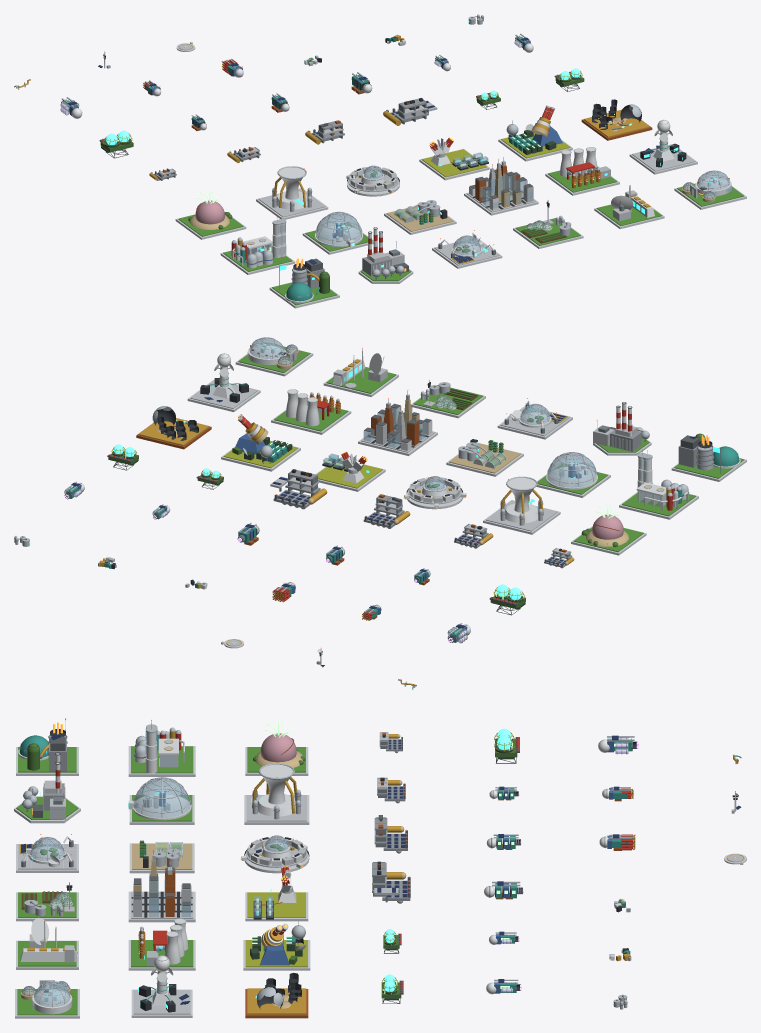
File: building_constructor.glb
3 views of the same model, one above another, from view 1: azimuth 30°, elevation 25°; view 2: azimuth 150°, elevation 25°; view 3: azimuth 270°, elevation 25° (orthographic). The views are drawn at different scales.
Visible parts, largest first — view 1: 009_core_METROPLEX, 006_core_MEGAFACTORY, 000_core_COLONY_BASE, 010_core_POWER_PLANT, 013_core_TERRAFORMING, 016_core_SURFACE_MEGA_SHIELD, 007_core_HABITAT, 001_core_FACTORY, 017_core_ALIEN_RUINS, 015_core_SURFACE_SHIELD, 005_core_RESEARCH_CAMPUS, 012_core_ECO_BOOSTER (+9 smaller); view 2: 009_core_METROPLEX, 006_core_MEGAFACTORY, 013_core_TERRAFORMING, 000_core_COLONY_BASE, 010_core_POWER_PLANT, 016_core_SURFACE_MEGA_SHIELD, 007_core_HABITAT, 012_core_ECO_BOOSTER, 001_core_FACTORY, 004_core_LABORATORY, 011_core_SKY_NET, 005_core_RESEARCH_CAMPUS (+10 smaller); view 3: 013_core_TERRAFORMING, 009_core_METROPLEX, 006_core_MEGAFACTORY, 007_core_HABITAT, 016_core_SURFACE_MEGA_SHIELD, 010_core_POWER_PLANT, 000_core_COLONY_BASE, 011_core_SKY_NET, 004_core_LABORATORY, 017_core_ALIEN_RUINS, 005_core_RESEARCH_CAMPUS, 015_core_SURFACE_SHIELD (+14 smaller).
Boxes of the visible parts, x1,y1,x2,y2 form: 009_core_METROPLEX: (464, 157, 538, 215); 006_core_MEGAFACTORY: (220, 215, 295, 274); 000_core_COLONY_BASE: (269, 258, 339, 308); 010_core_POWER_PLANT: (545, 147, 619, 195); 013_core_TERRAFORMING: (256, 166, 328, 219); 016_core_SURFACE_MEGA_SHIELD: (498, 105, 572, 161); 007_core_HABITAT: (302, 211, 373, 254); 001_core_FACTORY: (358, 227, 413, 283); 017_core_ALIEN_RUINS: (581, 99, 652, 140); 015_core_SURFACE_SHIELD: (419, 137, 489, 180); 005_core_RESEARCH_CAMPUS: (674, 170, 746, 209); 012_core_ECO_BOOSTER: (175, 191, 246, 239); 009_core_METROPLEX: (358, 390, 437, 455); 006_core_MEGAFACTORY: (619, 449, 698, 519); 013_core_TERRAFORMING: (483, 476, 560, 534); 000_core_COLONY_BASE: (671, 433, 746, 481); 010_core_POWER_PLANT: (271, 389, 351, 434); 016_core_SURFACE_MEGA_SHIELD: (221, 414, 300, 471); 007_core_HABITAT: (536, 452, 610, 497); 012_core_ECO_BOOSTER: (571, 504, 646, 555); 001_core_FACTORY: (593, 402, 651, 455); 004_core_LABORATORY: (323, 347, 398, 396); 011_core_SKY_NET: (187, 353, 260, 411); 005_core_RESEARCH_CAMPUS: (235, 337, 313, 376); 013_core_TERRAFORMING: (244, 762, 309, 824); 009_core_METROPLEX: (128, 849, 195, 922); 006_core_MEGAFACTORY: (128, 720, 195, 776); 007_core_HABITAT: (128, 777, 194, 824); 016_core_SURFACE_MEGA_SHIELD: (243, 921, 310, 970); 010_core_POWER_PLANT: (128, 918, 195, 970); 000_core_COLONY_BASE: (16, 718, 78, 775); 011_core_SKY_NET: (131, 955, 192, 1017); 004_core_LABORATORY: (16, 917, 78, 969); 017_core_ALIEN_RUINS: (245, 972, 308, 1018); 005_core_RESEARCH_CAMPUS: (15, 980, 79, 1018); 015_core_SURFACE_SHIELD: (245, 866, 308, 921).
Bounding box in the file's own units: 33.45 × 3.21 × 38.35.
